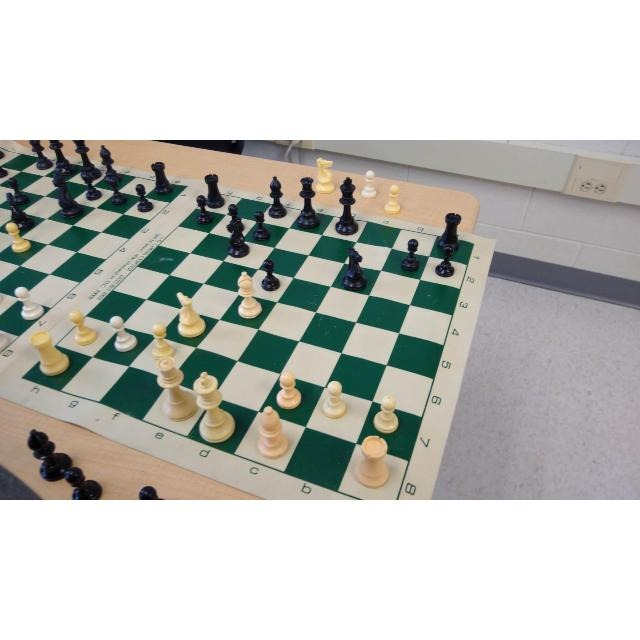black-bishop: (97, 145, 124, 185), (266, 174, 287, 220), (29, 140, 55, 171)
black-king: (333, 175, 359, 237), (71, 140, 103, 182)
black-knight: (51, 172, 85, 220), (342, 244, 368, 292), (224, 216, 252, 259), (4, 191, 34, 231)
black-pawn: (433, 243, 457, 279), (400, 237, 422, 273), (105, 174, 128, 205), (261, 257, 281, 292), (80, 171, 103, 201), (6, 176, 29, 206), (252, 210, 272, 242), (194, 194, 214, 225), (134, 182, 154, 213), (227, 203, 245, 234)
black-queen: (296, 177, 322, 229), (48, 141, 78, 177)
black-rook: (435, 209, 463, 252), (201, 171, 226, 210), (149, 159, 174, 196)
white-bishop: (256, 405, 292, 461), (234, 270, 264, 320)
white-king: (192, 368, 238, 445)
white-knight: (174, 290, 208, 340)
white-pawn: (107, 314, 139, 354), (274, 370, 304, 412), (67, 308, 99, 347), (320, 379, 348, 421), (371, 393, 399, 435), (14, 285, 46, 321), (150, 321, 176, 362), (4, 221, 32, 254)
white-queen: (154, 354, 201, 423)
white-rook: (351, 432, 393, 490), (26, 329, 71, 378)
